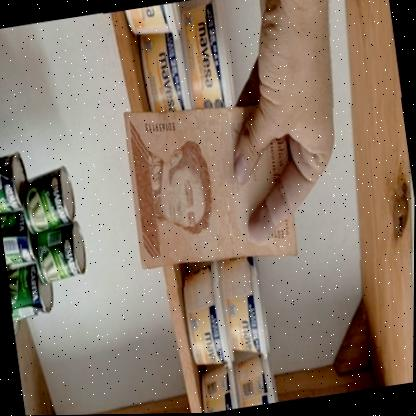twenty-front-vef: (119, 86, 303, 280)
